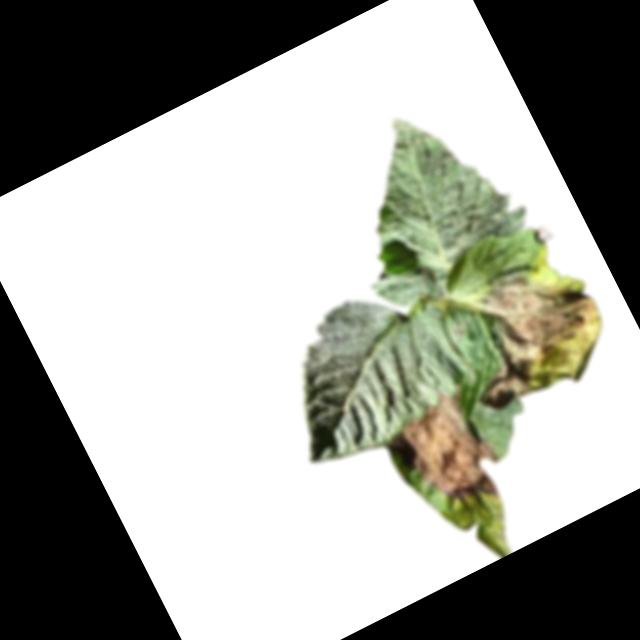Late_blight: (430, 242, 622, 426), (391, 383, 514, 524)
healthy: (307, 82, 543, 320), (249, 270, 470, 477)
